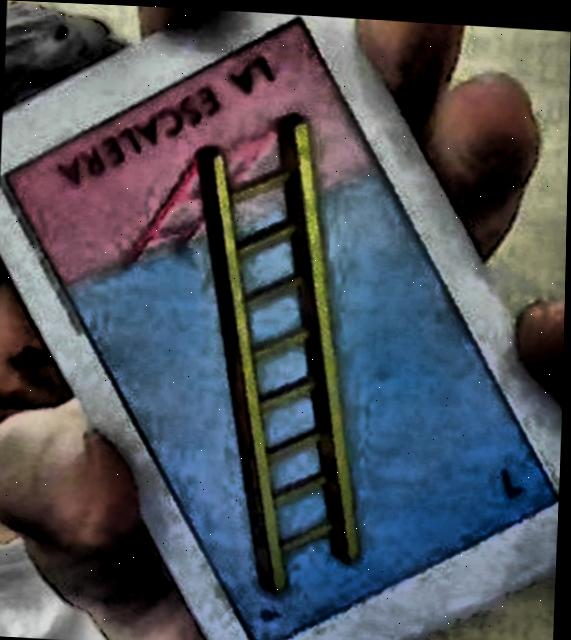La Escalera: (7, 16, 559, 640)
